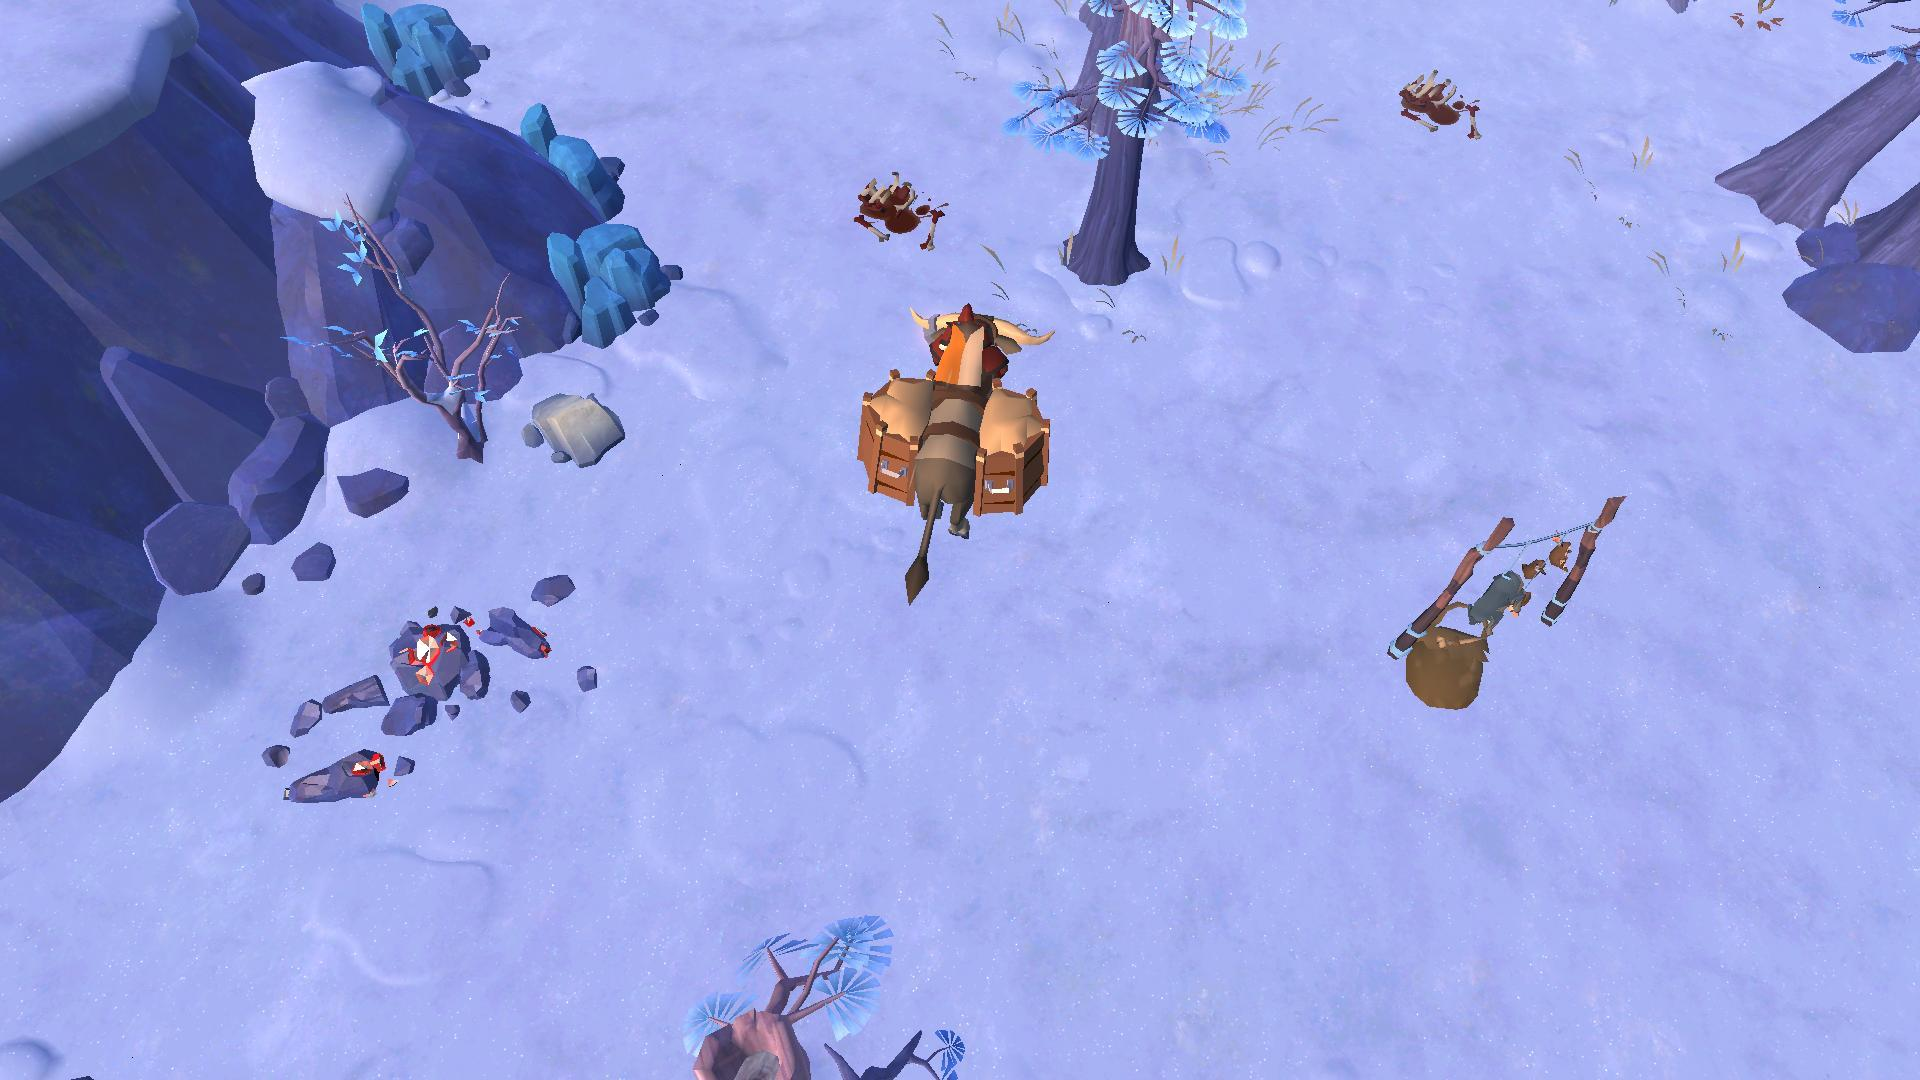rock_t4: (537, 214, 678, 335), (353, 0, 483, 109), (514, 99, 633, 212)
